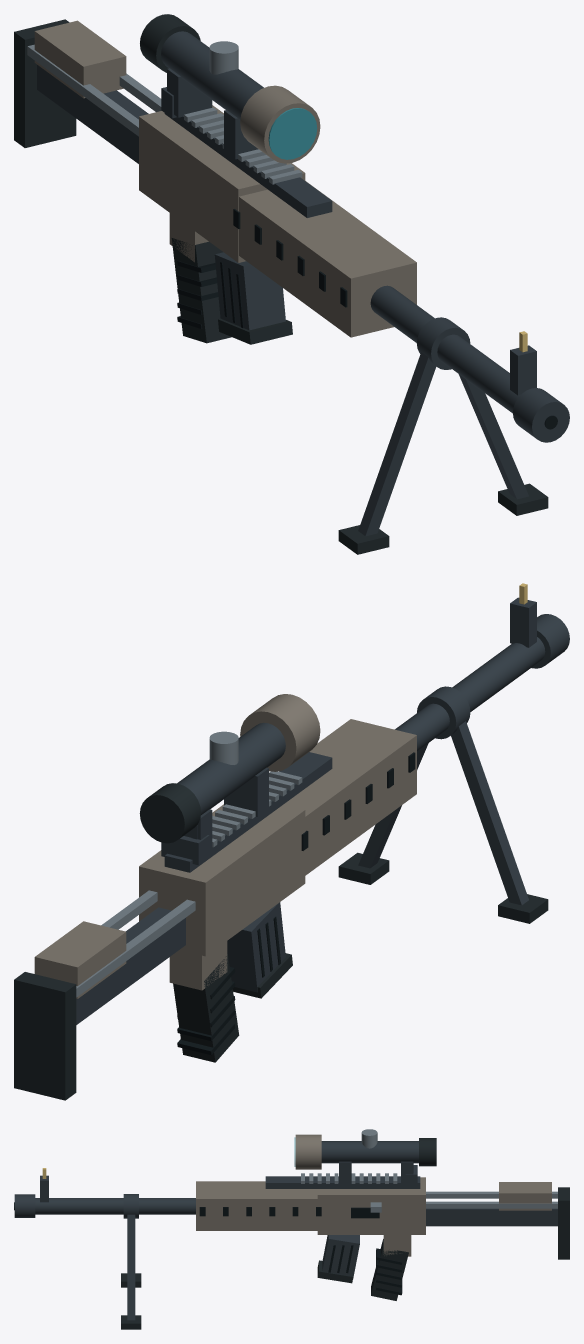
The model's file is sr_02_monolith.glb.
The picture shows the model from 3 angles, top to bottom: view 1: azimuth 30°, elevation 25°; view 2: azimuth 150°, elevation 25°; view 3: azimuth 270°, elevation 25°; orthographic projection. The views are drawn at different scales.
Visible parts, largest first — view 1: handguard, receiver, barrel, cheek_rest, buttpad, scope_tube, bipod_leg_-1, magazine, stock_spine, grip, scope_objective, upper_rail (+15 smaller); view 2: receiver, handguard, buttpad, barrel, scope_tube, cheek_rest, bipod_leg_-1, grip, stock_spine, scope_objective, magazine, scope_eyepiece (+14 smaller); view 3: handguard, receiver, barrel, stock_spine, scope_tube, upper_rail, cheek_rest, magazine, grip, scope_objective, bipod_leg_1, stock_rod_R (+11 smaller).
Boxes of the visible parts, box(x1,y1,x2,y2) form: handguard: box(239, 180, 416, 337); receiver: box(139, 105, 305, 262); barrel: box(370, 285, 520, 413); cheek_rest: box(34, 20, 126, 98); buttpad: box(14, 19, 76, 147); scope_tube: box(161, 31, 263, 119); bipod_leg_-1: box(358, 352, 436, 536); magazine: box(214, 252, 285, 330); stock_spine: box(37, 65, 148, 163); grip: box(171, 238, 231, 343); scope_objective: box(240, 85, 320, 163); upper_rail: box(164, 113, 332, 217); receiver: box(139, 804, 305, 956); handguard: box(279, 719, 416, 875); buttpad: box(14, 972, 76, 1100); barrel: box(395, 637, 545, 750); scope_tube: box(177, 722, 285, 814); cheek_rest: box(34, 921, 126, 998); bipod_leg_-1: box(451, 721, 528, 905); grip: box(173, 954, 239, 1062); stock_spine: box(76, 907, 185, 1024); scope_objective: box(240, 694, 320, 771); magazine: box(227, 902, 285, 992); scope_eyepiece: box(139, 783, 200, 843); handguard: box(196, 1181, 317, 1230); receiver: box(317, 1177, 425, 1234); barrel: box(35, 1198, 195, 1214); stock_spine: box(426, 1208, 557, 1226); scope_tube: box(321, 1141, 418, 1163); upper_rail: box(265, 1176, 420, 1188); cheek_rest: box(499, 1182, 551, 1210); magazine: box(322, 1235, 359, 1278); grip: box(371, 1239, 408, 1300); scope_objective: box(295, 1134, 321, 1169); bipod_leg_1: box(127, 1214, 135, 1320); stock_rod_R: box(426, 1201, 557, 1208).
Size of the model in its own units: 0.271 by 0.4295 by 1.26.
